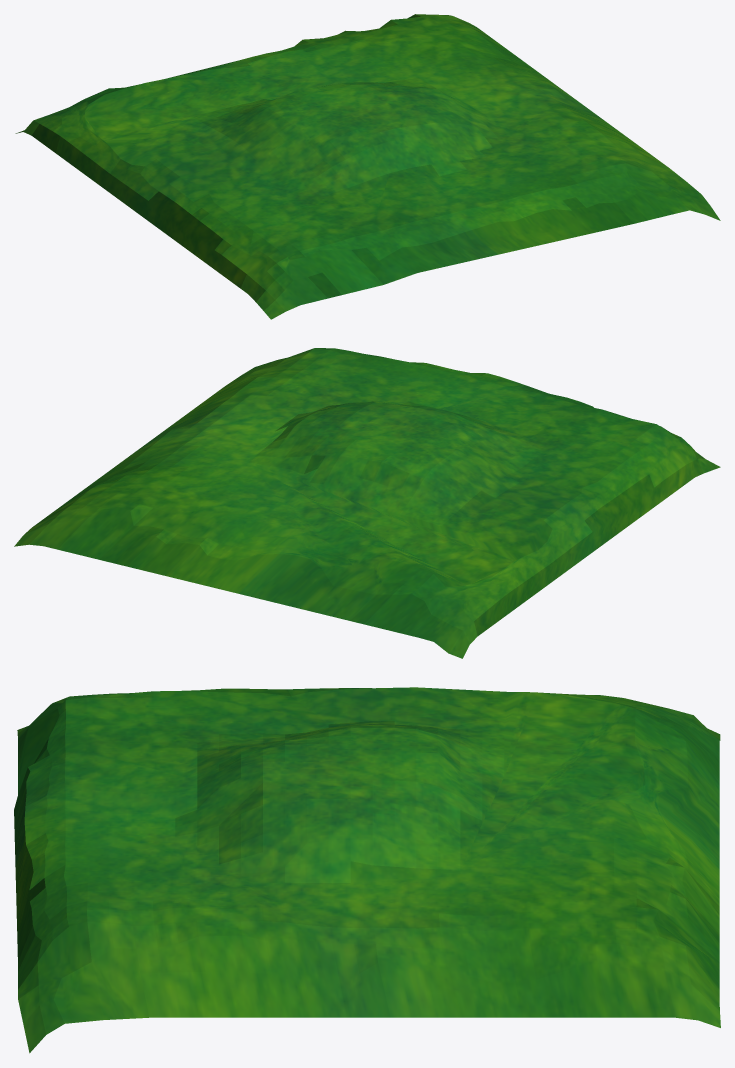
The model's file is startIsland.glb.
3 renders of one model, top to bottom at view 1: azimuth 30°, elevation 25°; view 2: azimuth 150°, elevation 25°; view 3: azimuth 270°, elevation 25°, orthographic. The views are drawn at different scales.
Visible parts, largest first — view 1: Plane; view 2: Plane; view 3: Plane.
Part boxes in pixels (x1=…): Plane: x1=15, y1=14, x2=720, y2=319; Plane: x1=14, y1=348, x2=720, y2=658; Plane: x1=14, y1=687, x2=720, y2=1053.
Bounding box in the file's own units: 20.41 × 3.81 × 20.15.
1 material, 1 textured.
